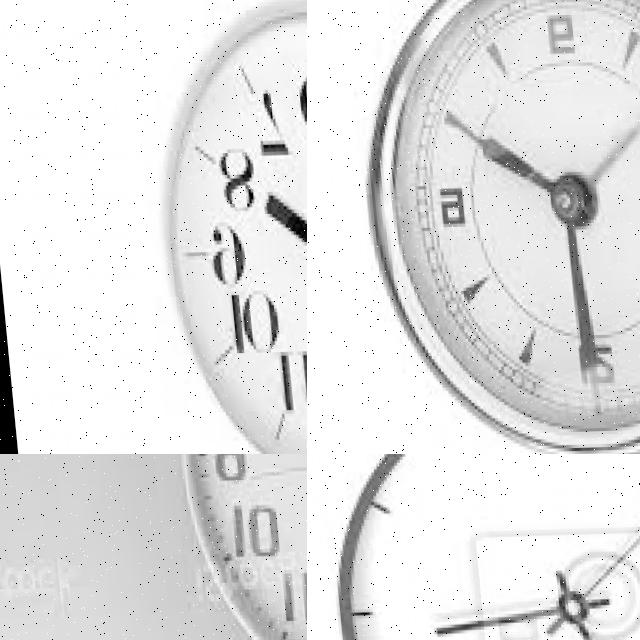Clocks-images: (342, 1, 640, 455), (143, 2, 308, 455), (317, 455, 640, 640), (160, 455, 308, 640)
